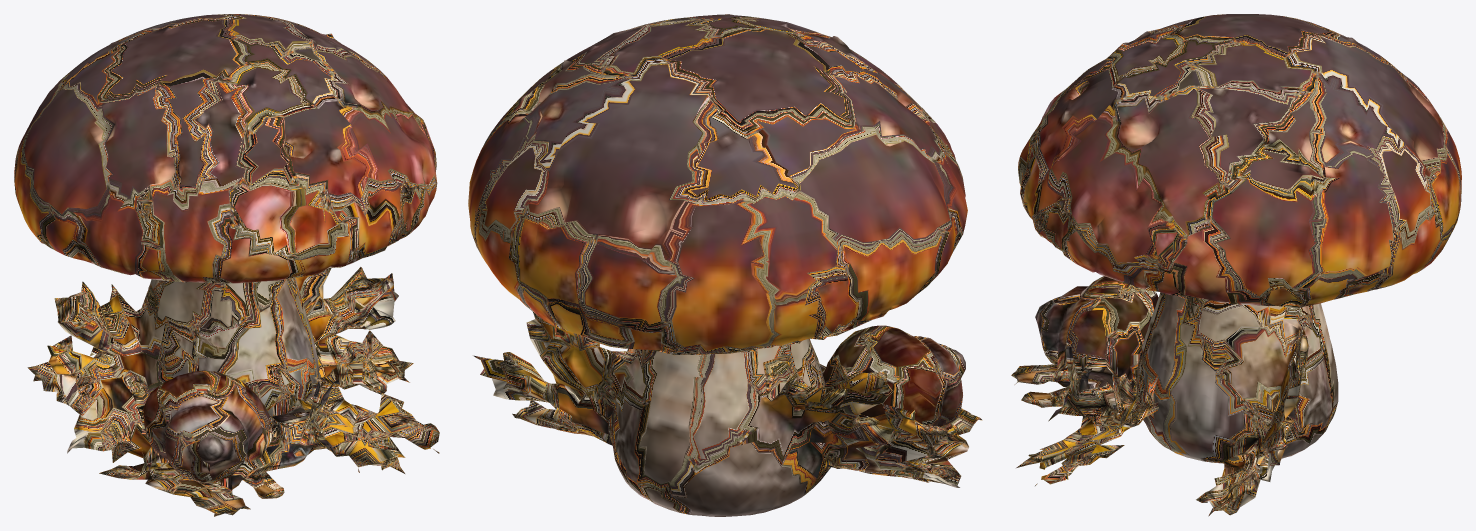
3 views of the same model, side by side, from view 1: azimuth 30°, elevation 25°; view 2: azimuth 150°, elevation 25°; view 3: azimuth 270°, elevation 25° (orthographic). The views are drawn at different scales.
Bounding box in the file's own units: 1.9 × 1.77 × 1.84.
1 material, 1 textured.
